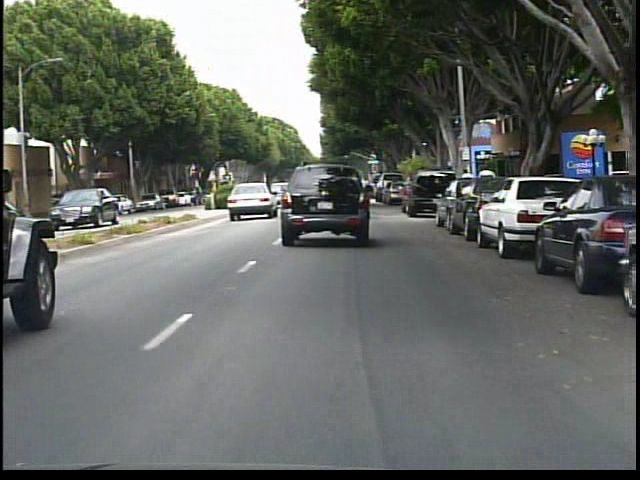person: (478, 163, 498, 208), (459, 166, 476, 206), (93, 189, 111, 218)
